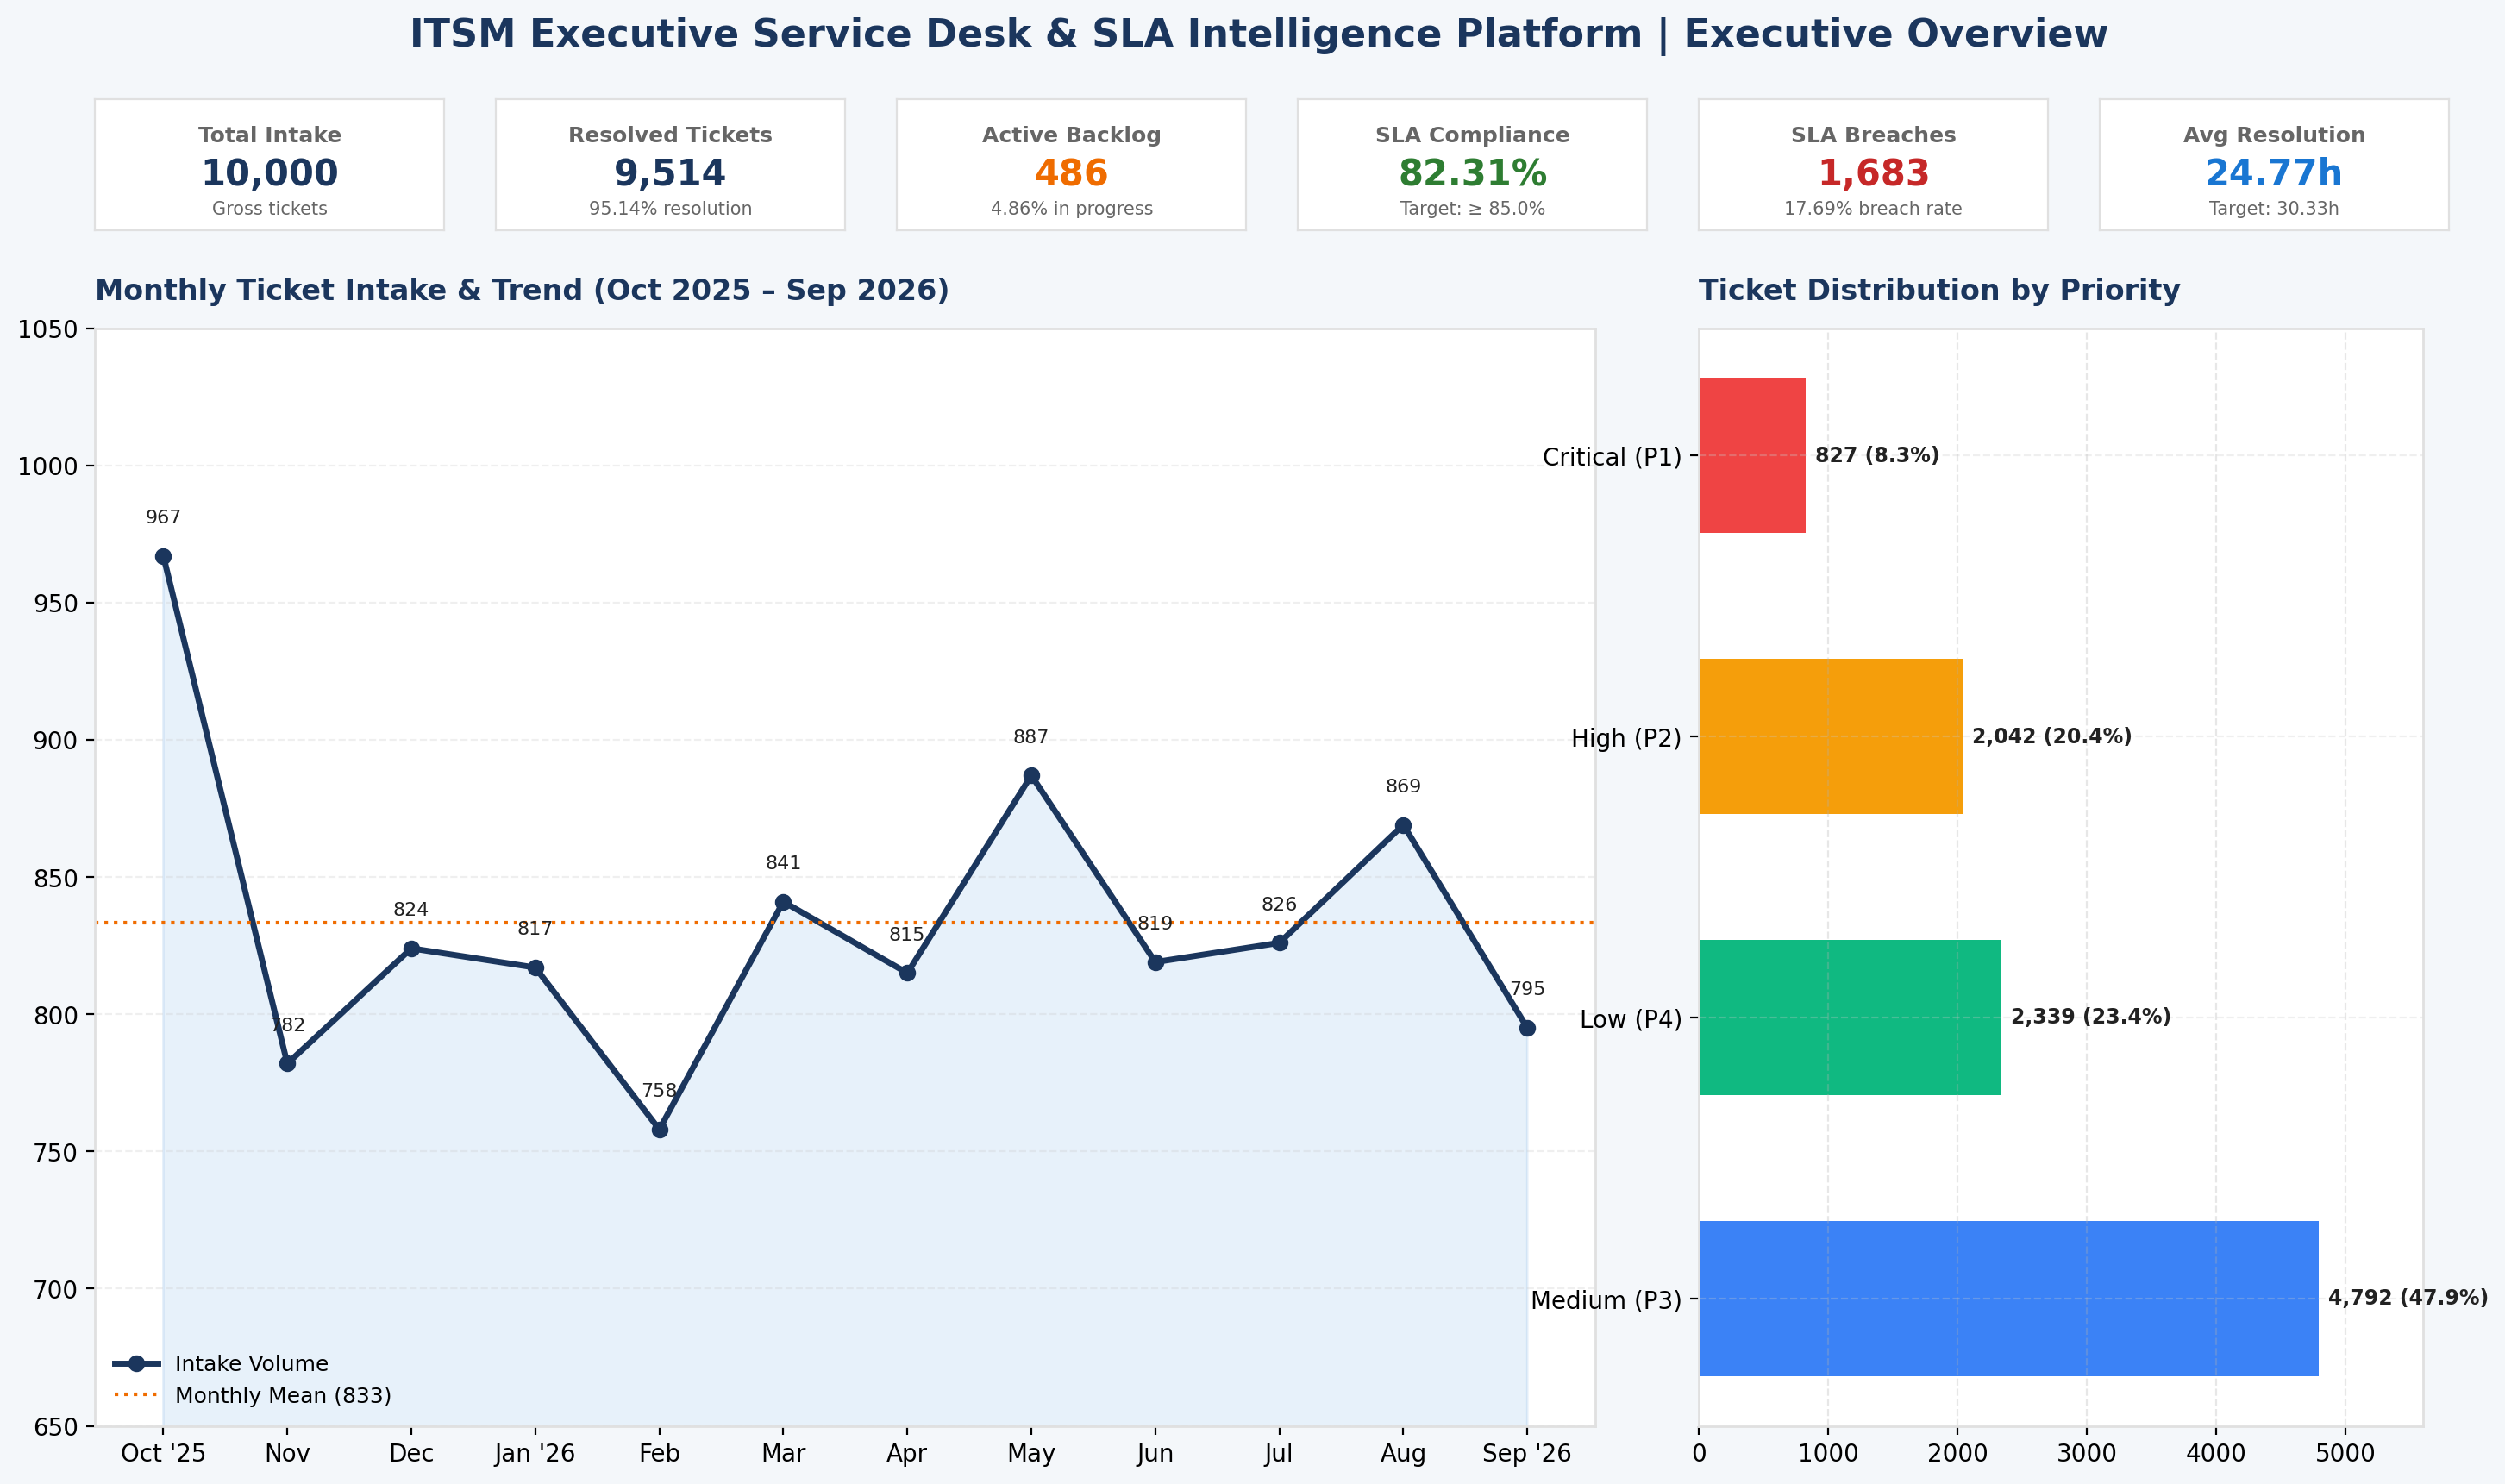

The page's visual inventory and layout, read from the dashboard file:
{"tool":"tableau","page":{"name":"1_Executive_Overview","canvas":[1300,850],"ordinal":0},"visuals":[{"type":"worksheet","title":"Overview_KPI_Cards","mark":"Text","box":[0,0,1300,212.5]},{"type":"worksheet","title":"Overview_Monthly_Trend","mark":"Line","box":[0,212.5,780,637.5]},{"type":"worksheet","title":"Overview_Priority_Share","mark":"Bar","box":[780,212.5,520,637.5]}]}

Visuals, with their boxes on the page's 1300x850 design canvas (x1, y1, x2, y2). These are canvas units, not pixel positions in the 2505x1484 screenshot, which may show the page scaled, cropped or inside an application window:
"Overview_KPI_Cards" worksheet (Text marks): BBox(0, 0, 1300, 212)
"Overview_Monthly_Trend" worksheet (Line marks): BBox(0, 212, 780, 850)
"Overview_Priority_Share" worksheet (Bar marks): BBox(780, 212, 1300, 850)
